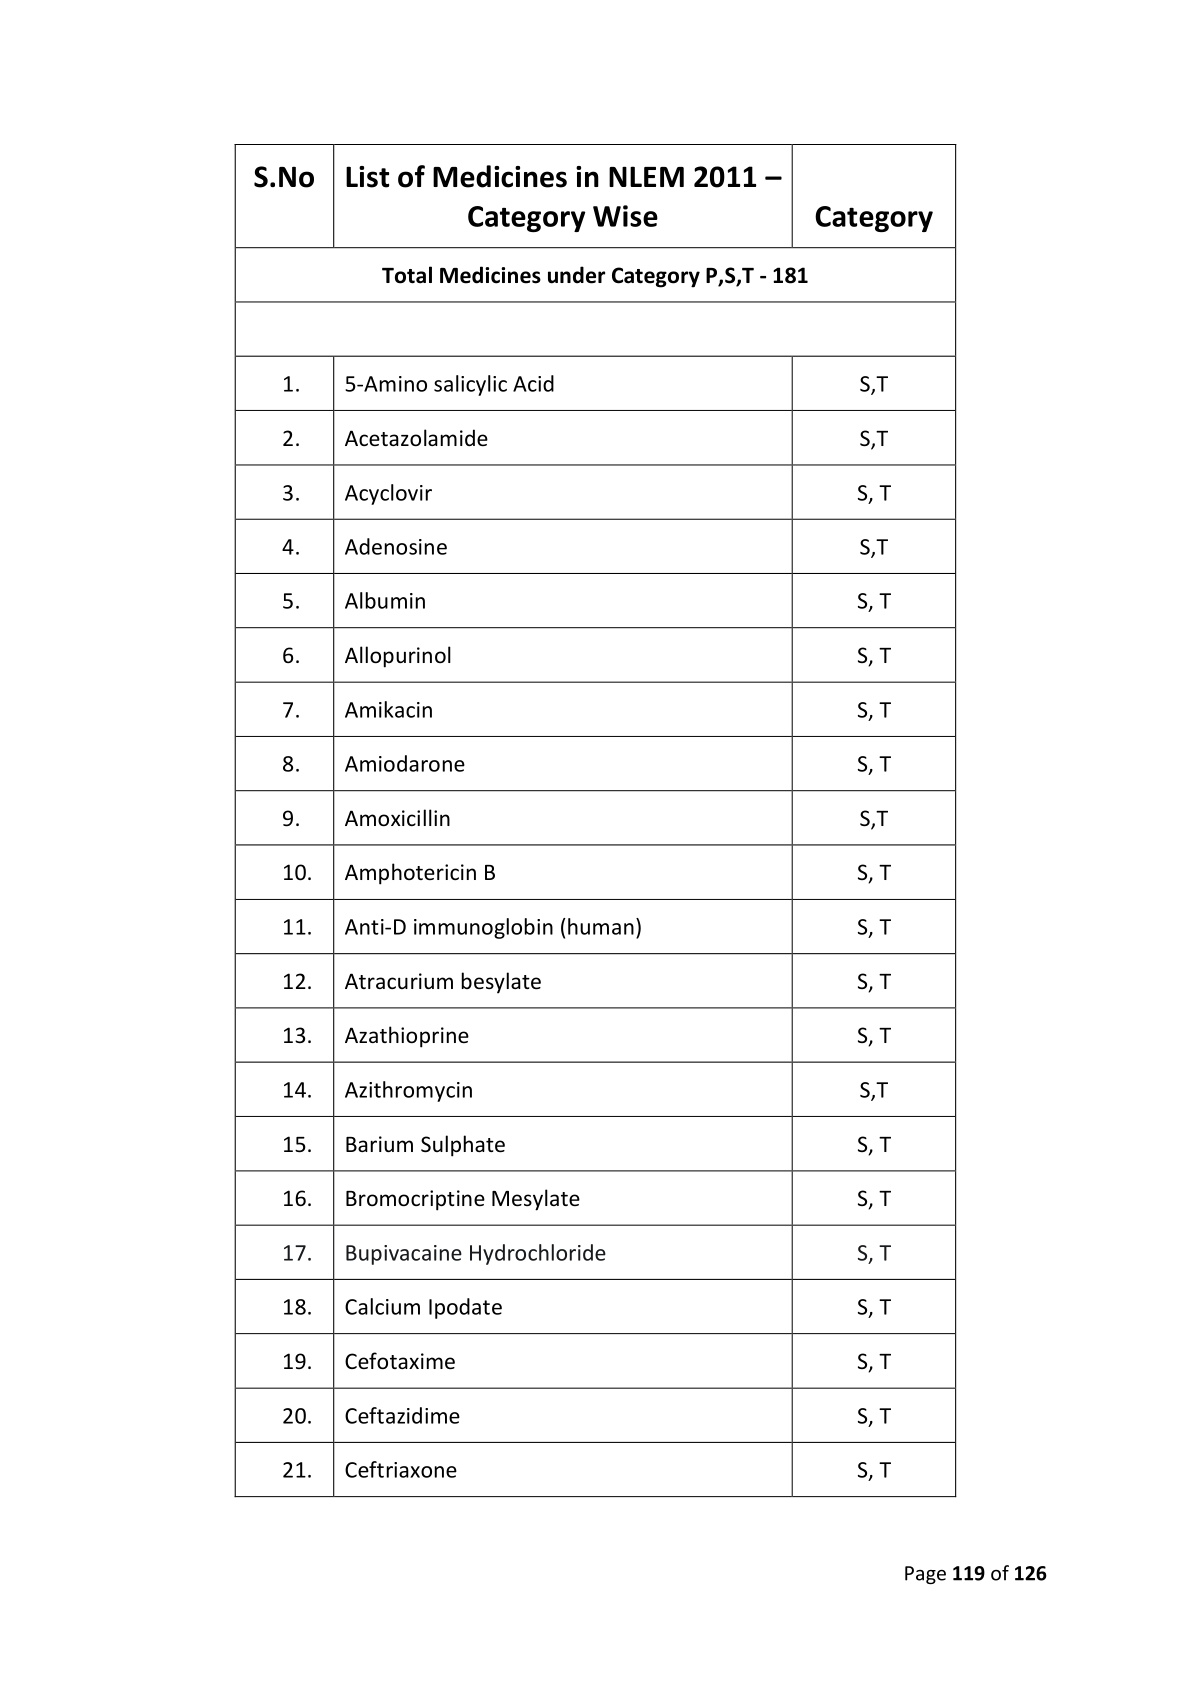merged_cells: (232, 140, 958, 1498)
